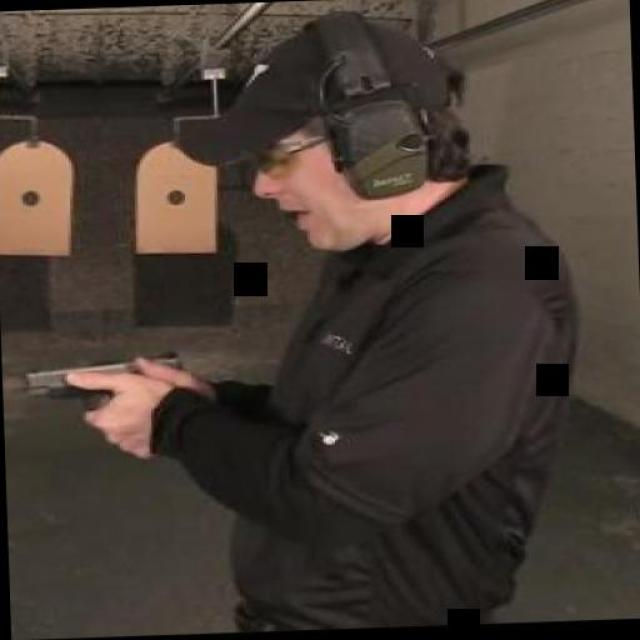gun: (16, 348, 188, 444)
